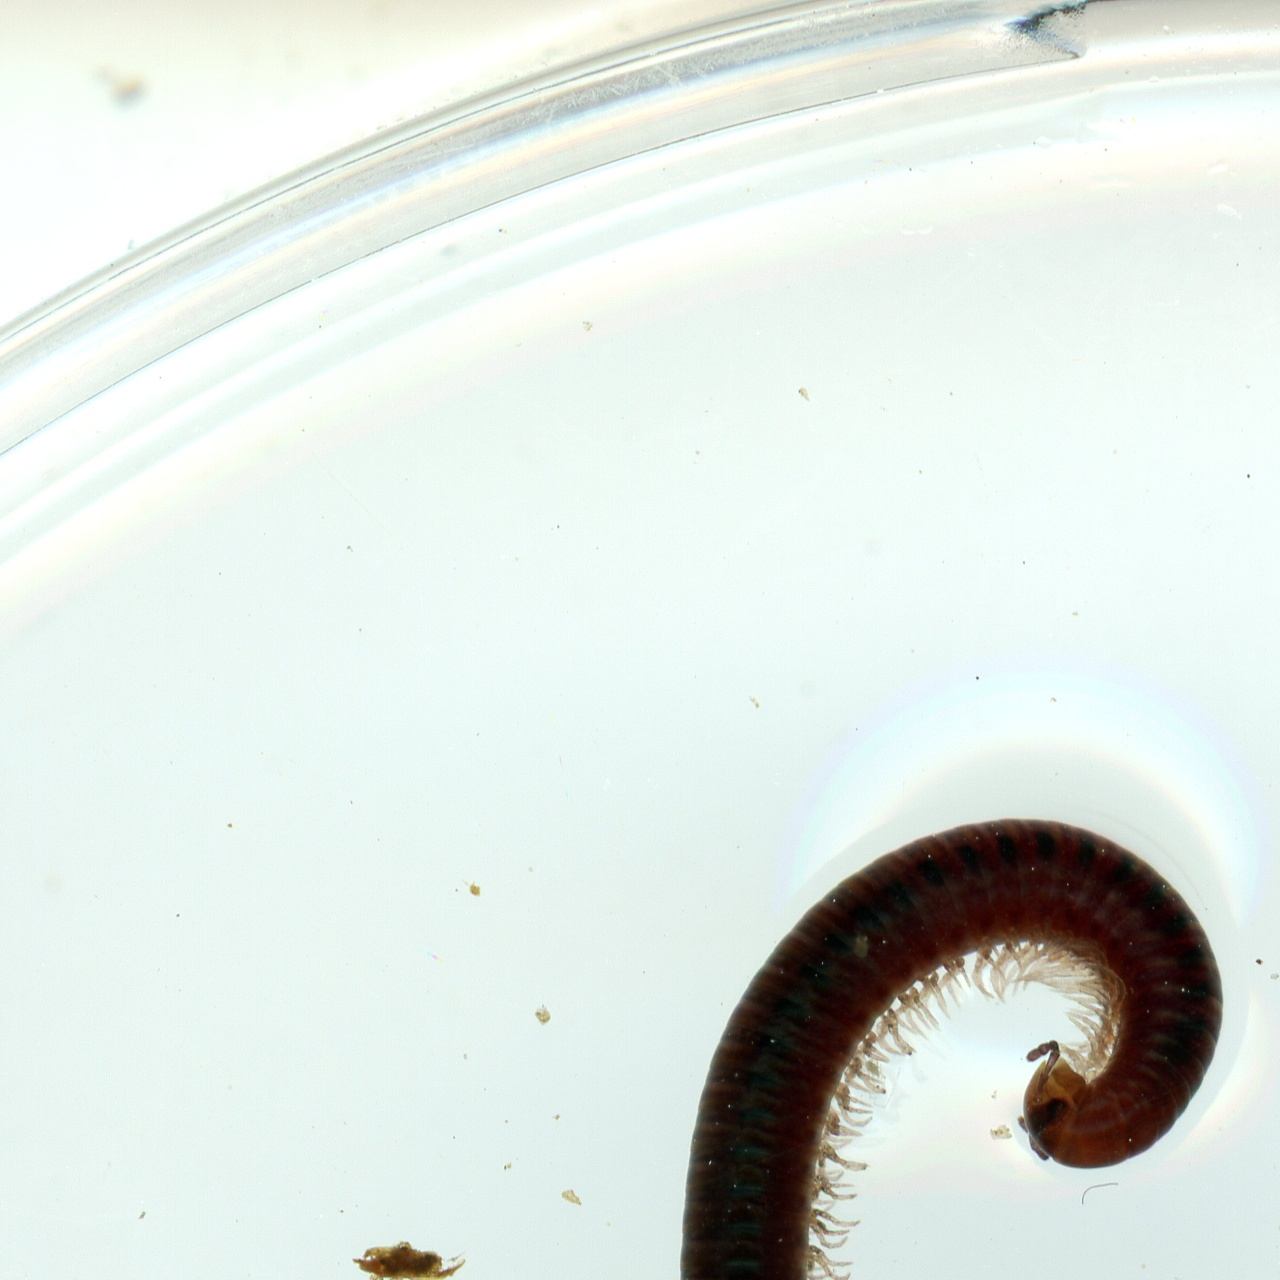arthropod: (379, 703, 1280, 1280)
